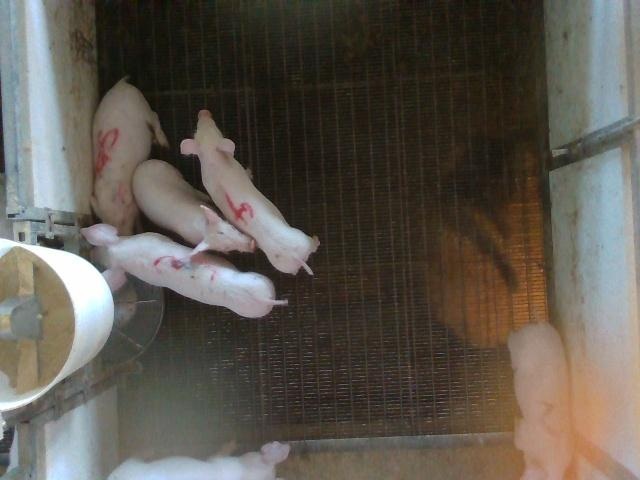pig-1: (108, 441, 290, 479)
pig-2: (509, 324, 574, 479)
pig-3: (82, 224, 288, 317)
pig-4: (181, 111, 320, 274)
pig-5: (91, 78, 168, 235)
